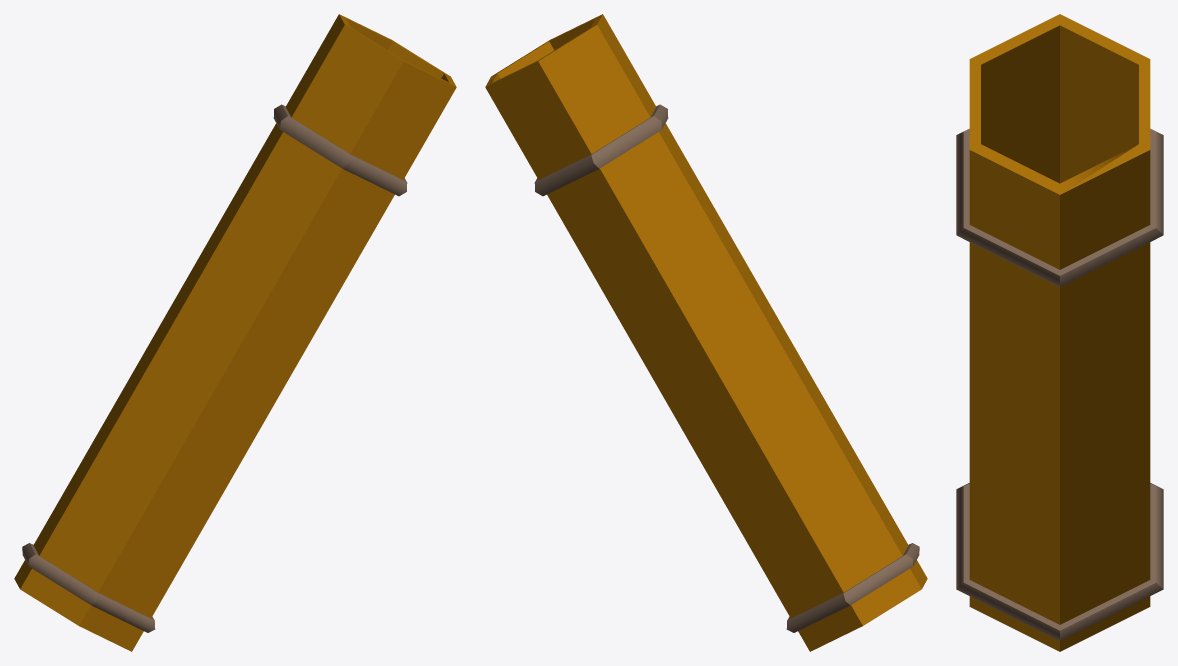
The model's file is ranger_quiver.fbx.
3 renders of one model, left to right at view 1: azimuth 30°, elevation 25°; view 2: azimuth 150°, elevation 25°; view 3: azimuth 270°, elevation 25°, orthographic. The views are drawn at different scales.
Parts seen in each view (by area): view 1: ranger_quiver_and_arrows; view 2: ranger_quiver_and_arrows; view 3: ranger_quiver_and_arrows.
Boxes of the visible parts, left/top/right/bottom form: ranger_quiver_and_arrows: left=14, top=14, right=456, bottom=651; ranger_quiver_and_arrows: left=485, top=14, right=927, bottom=651; ranger_quiver_and_arrows: left=956, top=14, right=1163, bottom=651.
Bounding box in the file's own units: 26.63 × 33.26 × 7.95.
